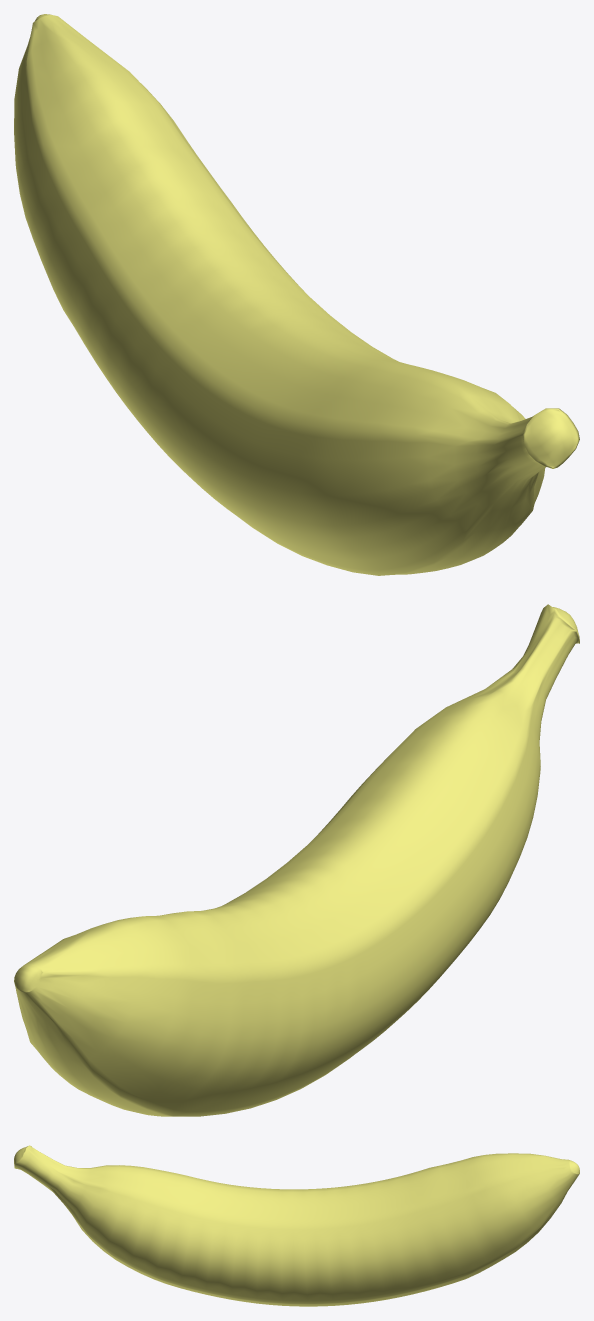
File: platano.fbx
3 renders of one model, top to bottom at view 1: azimuth 30°, elevation 25°; view 2: azimuth 150°, elevation 25°; view 3: azimuth 270°, elevation 25°, orthographic. The views are drawn at different scales.
Parts seen in each view (by area): view 1: Box03; view 2: Box03; view 3: Box03.
Boxes of the visible parts, x1,y1,x2,y2 form: Box03: (14,14,579,575); Box03: (14,604,579,1116); Box03: (14,1145,579,1306).
Size of the model in its own units: 919 by 1407 by 4683.
